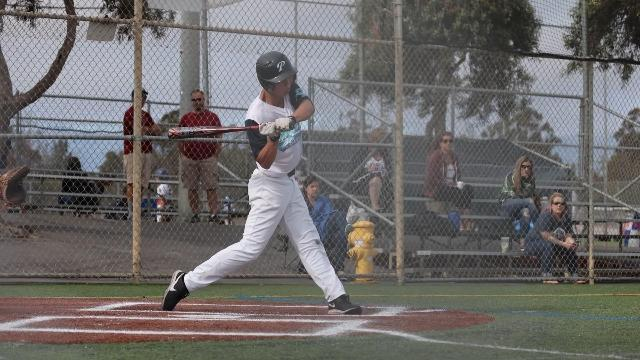baseball bat: (166, 124, 258, 140)
